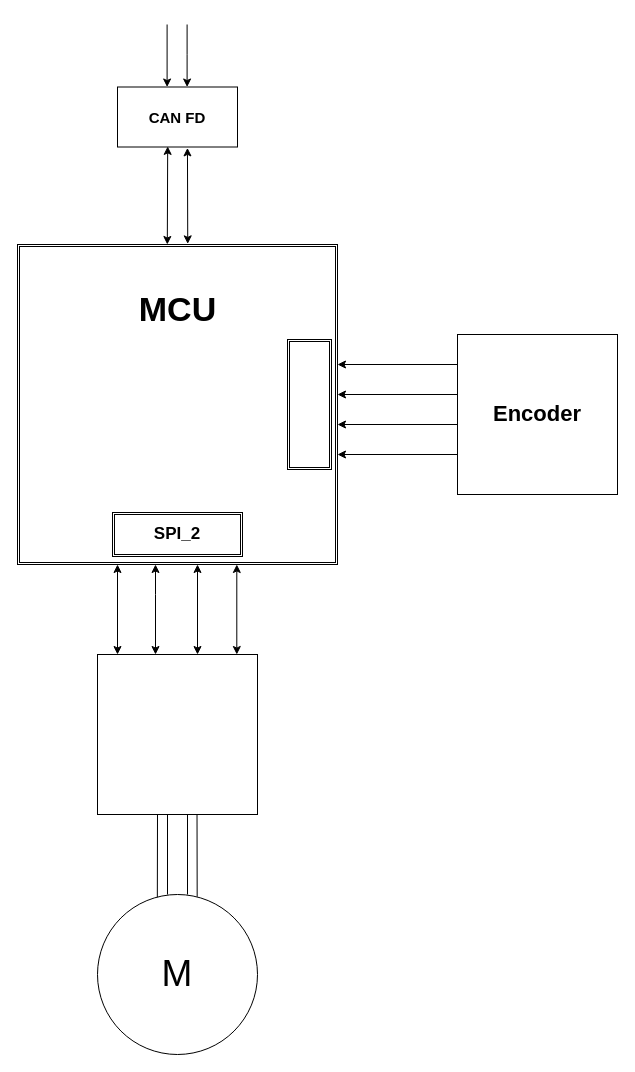
The diagram is 635 pixels wide and 1072 high, and some of its shapes have lost their labels. The shapes that lost their labels are listed below. From the top down, each one's centre as x and y in pixels, then its label:
(309,404): SPI_1
(177,734): TMC_5160
